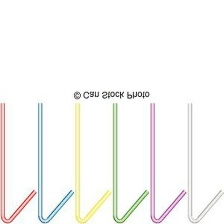drinking_straw: (68, 100, 113, 223), (182, 100, 223, 223), (0, 100, 37, 223)
